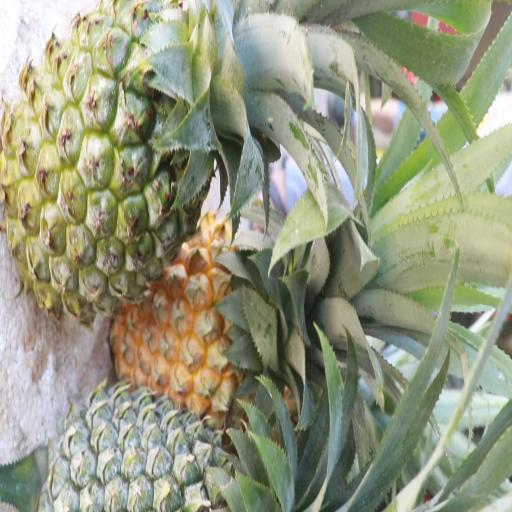------------------------------: (10, 12, 224, 320)
Pineapple - v8 v1: (114, 218, 284, 415)
